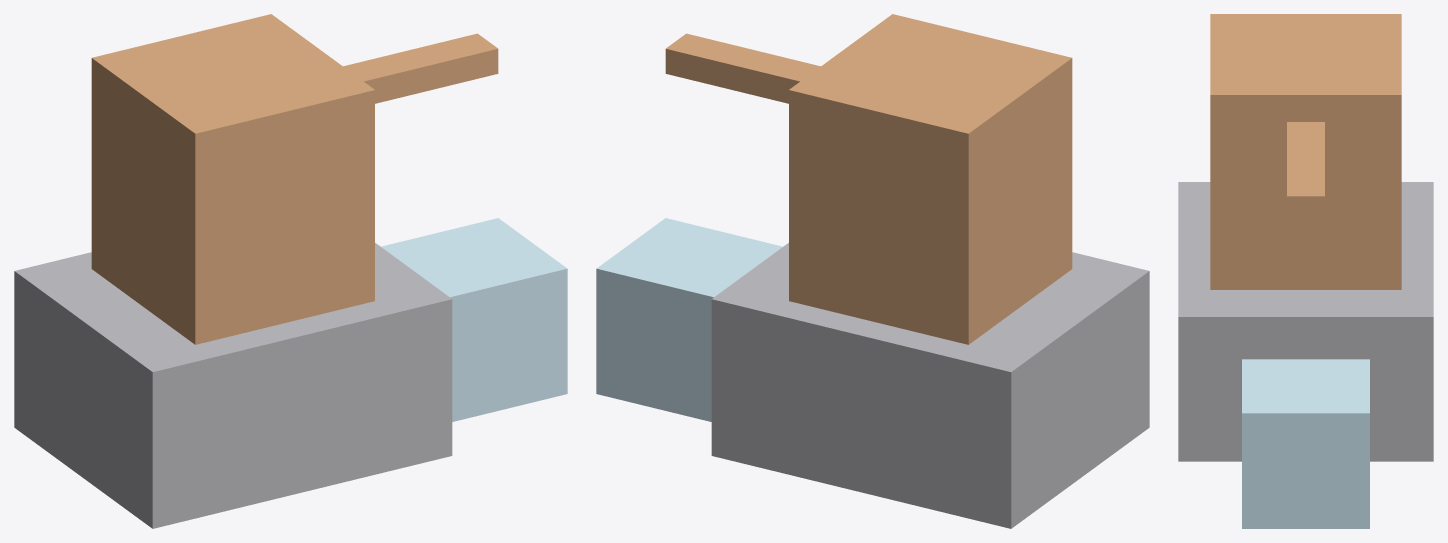
The model's file is Prop_Water_AMF_SolarStill_V6.glb.
3 views of the same model, side by side, from view 1: azimuth 30°, elevation 25°; view 2: azimuth 150°, elevation 25°; view 3: azimuth 270°, elevation 25° (orthographic). The views are drawn at different scales.
Visible parts, largest first — view 1: Prop_Water_AMF_SolarStill_V6; view 2: Prop_Water_AMF_SolarStill_V6; view 3: Prop_Water_AMF_SolarStill_V6.
Boxes of the visible parts, <box> form: Prop_Water_AMF_SolarStill_V6: <box>14,14,567,528</box>; Prop_Water_AMF_SolarStill_V6: <box>596,14,1149,528</box>; Prop_Water_AMF_SolarStill_V6: <box>1178,14,1433,528</box>.
Bounding box in the file's own units: 1.5 × 1.17 × 0.8.
